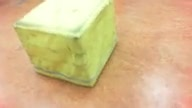cube: (13, 1, 118, 88)
